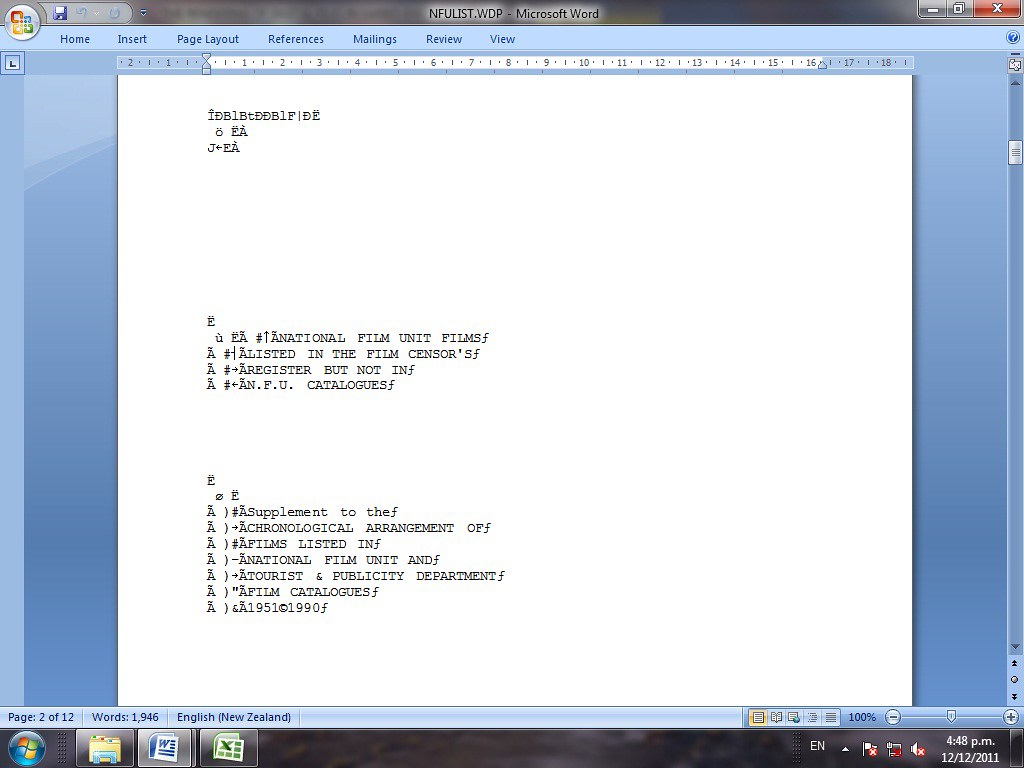button: (75, 728, 134, 768), (937, 732, 1003, 767), (137, 729, 195, 768), (200, 729, 258, 768), (4, 4, 42, 42), (9, 730, 46, 765), (174, 32, 242, 47), (974, 1, 1023, 18), (265, 33, 324, 47), (350, 33, 398, 46), (1009, 728, 1024, 768), (423, 32, 464, 46), (115, 32, 149, 47), (484, 32, 519, 46), (918, 1, 946, 18), (58, 33, 91, 47), (947, 1, 975, 17), (860, 738, 881, 759), (1008, 138, 1023, 166), (908, 740, 928, 760), (50, 3, 69, 23), (883, 707, 902, 726), (1004, 27, 1022, 47), (748, 708, 767, 726), (767, 707, 786, 725), (785, 707, 804, 725), (804, 707, 823, 725), (822, 708, 841, 726), (1002, 708, 1021, 726), (885, 741, 904, 759), (807, 739, 828, 755), (1007, 57, 1024, 75), (1007, 690, 1024, 706), (1008, 73, 1024, 89), (1007, 655, 1024, 670), (107, 6, 123, 21), (74, 5, 88, 20), (1008, 640, 1023, 654), (945, 708, 958, 724), (1008, 673, 1022, 686), (816, 61, 829, 70), (839, 745, 850, 755), (91, 9, 101, 19), (138, 8, 148, 18), (201, 53, 212, 61), (201, 68, 212, 76), (200, 62, 213, 68)
common: (175, 710, 291, 726), (91, 710, 160, 723), (7, 711, 74, 724), (848, 709, 877, 723)
container: (1, 1, 1024, 729), (1, 49, 1024, 707), (116, 74, 913, 707), (1, 729, 1024, 768), (1, 24, 1024, 50), (1, 1, 1024, 25), (1, 707, 1023, 730), (115, 53, 916, 71), (1007, 50, 1024, 707), (1008, 74, 1024, 656), (800, 729, 1010, 768), (883, 708, 1022, 727), (44, 2, 131, 25), (918, 1, 1021, 19), (748, 708, 842, 727), (1007, 656, 1024, 707), (74, 3, 103, 23)
header: (426, 5, 601, 22)
text-input: (183, 95, 870, 705)
